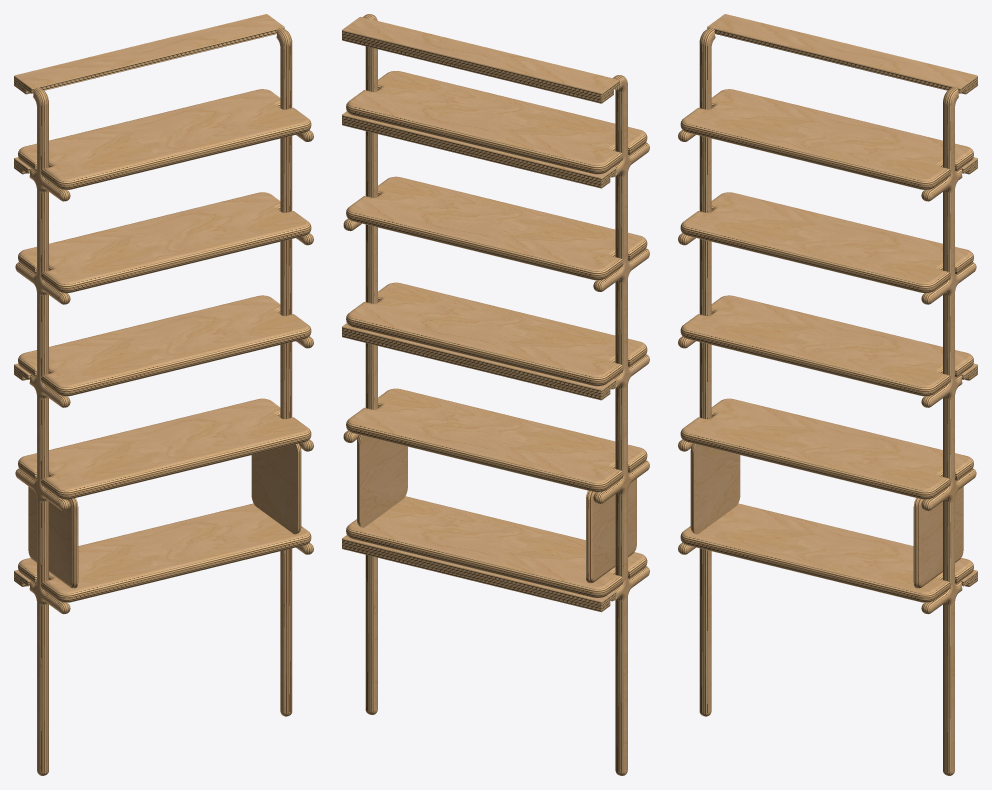
Rendered from cubby-shelf.glb.
3 renders of one model, left to right at view 1: azimuth 30°, elevation 25°; view 2: azimuth 150°, elevation 25°; view 3: azimuth 330°, elevation 25°, orthographic. The views are drawn at different scales.
Parts seen in each view (by area): view 1: Cubby Shelf: shelf_3, Cubby Shelf: shelf_2, Cubby Shelf: shelf_1, Cubby Shelf: shelf_4, Cubby Shelf: cubby_bottom, Cubby Shelf: upright_L, Cubby Shelf: upright_R, Cubby Shelf: top_rail_upper, Cubby Shelf: cubby_side_R, Cubby Shelf: cubby_side_L; view 2: Cubby Shelf: shelf_1, Cubby Shelf: shelf_3, Cubby Shelf: shelf_2, Cubby Shelf: shelf_4, Cubby Shelf: cubby_bottom, Cubby Shelf: upright_L, Cubby Shelf: top_rail_upper, Cubby Shelf: upright_R, Cubby Shelf: cubby_side_R, Cubby Shelf: cubby_side_L, Cubby Shelf: wall_strip_1_upper, Cubby Shelf: wall_strip_5_upper (+5 smaller); view 3: Cubby Shelf: shelf_2, Cubby Shelf: shelf_3, Cubby Shelf: shelf_1, Cubby Shelf: shelf_4, Cubby Shelf: cubby_bottom, Cubby Shelf: upright_R, Cubby Shelf: upright_L, Cubby Shelf: top_rail_upper, Cubby Shelf: cubby_side_L, Cubby Shelf: cubby_side_R.
Part boxes in pixels (x1,y1,x2,y2): Cubby Shelf: shelf_3: [18, 192, 311, 293]; Cubby Shelf: shelf_2: [18, 295, 311, 396]; Cubby Shelf: shelf_1: [18, 398, 311, 499]; Cubby Shelf: shelf_4: [18, 89, 311, 189]; Cubby Shelf: cubby_bottom: [18, 503, 311, 602]; Cubby Shelf: upright_L: [15, 87, 70, 775]; Cubby Shelf: upright_R: [276, 27, 313, 716]; Cubby Shelf: top_rail_upper: [14, 14, 284, 93]; Cubby Shelf: cubby_side_R: [251, 443, 301, 534]; Cubby Shelf: cubby_side_L: [28, 486, 78, 588]; Cubby Shelf: shelf_1: [346, 388, 647, 492]; Cubby Shelf: shelf_3: [346, 176, 647, 280]; Cubby Shelf: shelf_2: [346, 282, 647, 386]; Cubby Shelf: shelf_4: [346, 71, 647, 174]; Cubby Shelf: cubby_bottom: [346, 496, 647, 597]; Cubby Shelf: upright_L: [593, 75, 649, 775]; Cubby Shelf: top_rail_upper: [342, 17, 619, 98]; Cubby Shelf: upright_R: [343, 14, 377, 714]; Cubby Shelf: cubby_side_R: [357, 435, 407, 527]; Cubby Shelf: cubby_side_L: [586, 478, 636, 583]; Cubby Shelf: wall_strip_1_upper: [342, 535, 616, 606]; Cubby Shelf: wall_strip_5_upper: [342, 111, 616, 183]; Cubby Shelf: shelf_2: [680, 295, 973, 396]; Cubby Shelf: shelf_3: [680, 192, 973, 293]; Cubby Shelf: shelf_1: [680, 398, 973, 499]; Cubby Shelf: shelf_4: [680, 89, 973, 189]; Cubby Shelf: cubby_bottom: [680, 503, 973, 602]; Cubby Shelf: upright_R: [921, 87, 976, 775]; Cubby Shelf: upright_L: [678, 27, 715, 716]; Cubby Shelf: top_rail_upper: [707, 14, 977, 93]; Cubby Shelf: cubby_side_L: [690, 443, 740, 534]; Cubby Shelf: cubby_side_R: [913, 486, 963, 588].
Bounding box in the file's own units: 0.9144 × 2.36 × 0.3048.
2 materials, 2 textured.
